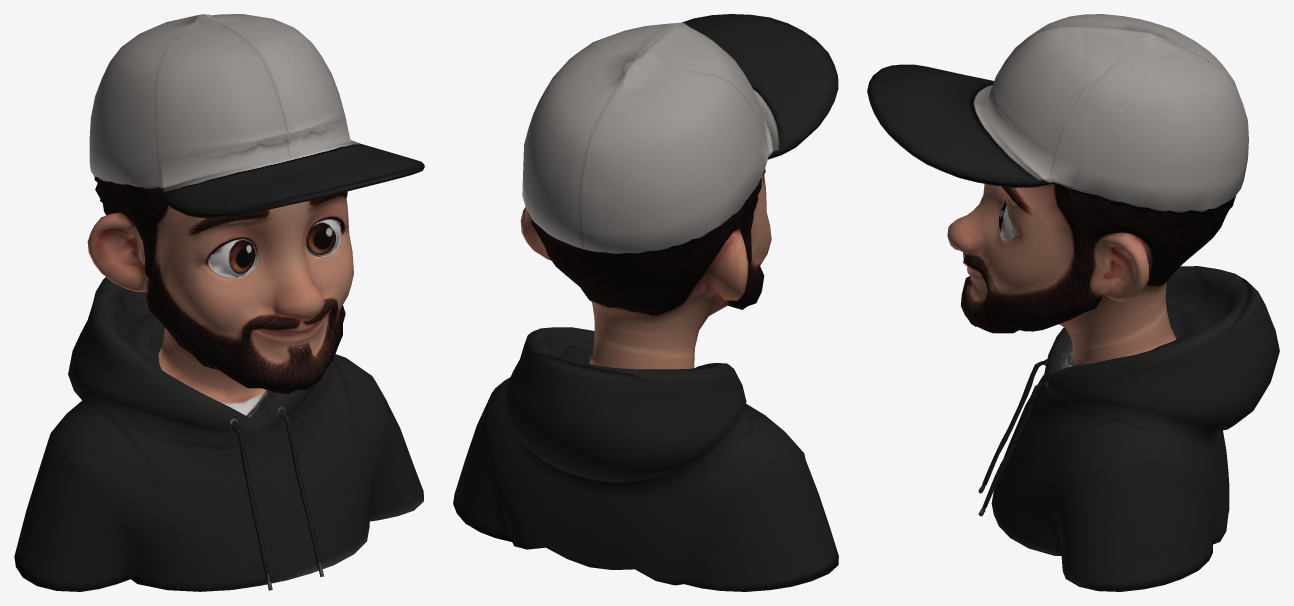
The model's file is avatar.glb.
3 renders of one model, left to right at view 1: azimuth 30°, elevation 25°; view 2: azimuth 150°, elevation 25°; view 3: azimuth 270°, elevation 25°, orthographic. The views are drawn at different scales.
Visible parts, largest first — view 1: tripo_node_63f3e093-58cf-4280-a600-0d53c4783672; view 2: tripo_node_63f3e093-58cf-4280-a600-0d53c4783672; view 3: tripo_node_63f3e093-58cf-4280-a600-0d53c4783672.
Part boxes in pixels (<box>): tripo_node_63f3e093-58cf-4280-a600-0d53c4783672: <box>14,14,424,591</box>; tripo_node_63f3e093-58cf-4280-a600-0d53c4783672: <box>453,14,838,591</box>; tripo_node_63f3e093-58cf-4280-a600-0d53c4783672: <box>867,14,1279,591</box>.
Bounding box in the file's own units: 0.7988 × 0.998 × 0.7832.
Materials: 1 (1 with a texture image).
